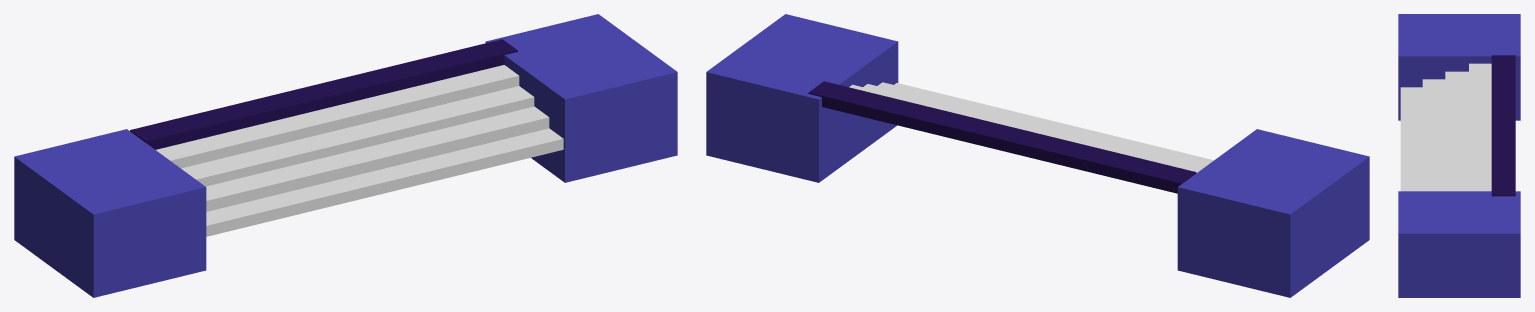
The model's file is esclaeras.glb.
The picture shows the model from 3 angles, left to right: view 1: azimuth 30°, elevation 25°; view 2: azimuth 150°, elevation 25°; view 3: azimuth 270°, elevation 25°; orthographic projection. The views are drawn at different scales.
Parts seen in each view (by area): view 1: Cube.005, Cube.006, Cube.004, Cube, Cube.001, Cube.003, Cube.002; view 2: Cube.005, Cube.006, Cube.004, Cube.001, Cube.002, Cube.003, Cube; view 3: Cube.006, Cube.005, Cube.004, Cube.003, Cube.002, Cube.001, Cube.
Boxes of the visible parts, bbox=[...] form: Cube.005: bbox=[14, 129, 206, 297]; Cube.006: bbox=[485, 14, 677, 182]; Cube.004: bbox=[130, 39, 517, 149]; Cube: bbox=[206, 128, 563, 236]; Cube.001: bbox=[206, 106, 549, 211]; Cube.003: bbox=[156, 65, 519, 168]; Cube.002: bbox=[181, 86, 534, 186]; Cube.005: bbox=[1177, 129, 1369, 297]; Cube.006: bbox=[706, 14, 898, 182]; Cube.004: bbox=[808, 81, 1196, 193]; Cube.001: bbox=[877, 82, 1210, 166]; Cube.002: bbox=[863, 84, 1205, 169]; Cube.003: bbox=[849, 84, 1200, 172]; Cube: bbox=[894, 83, 1213, 162]; Cube.006: bbox=[1398, 191, 1520, 297]; Cube.005: bbox=[1398, 14, 1520, 120]; Cube.004: bbox=[1491, 55, 1515, 196]; Cube.003: bbox=[1469, 63, 1491, 191]; Cube.002: bbox=[1445, 71, 1468, 191]; Cube.001: bbox=[1422, 79, 1445, 191]; Cube: bbox=[1400, 87, 1422, 191].
Bounding box in the file's own units: 63.8 × 8.84 × 15.
